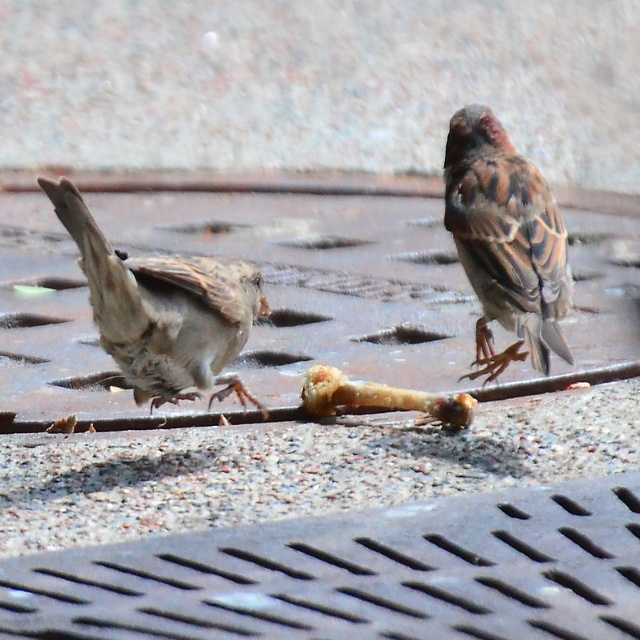Sparrow: (35, 173, 275, 418), (442, 103, 568, 374)
